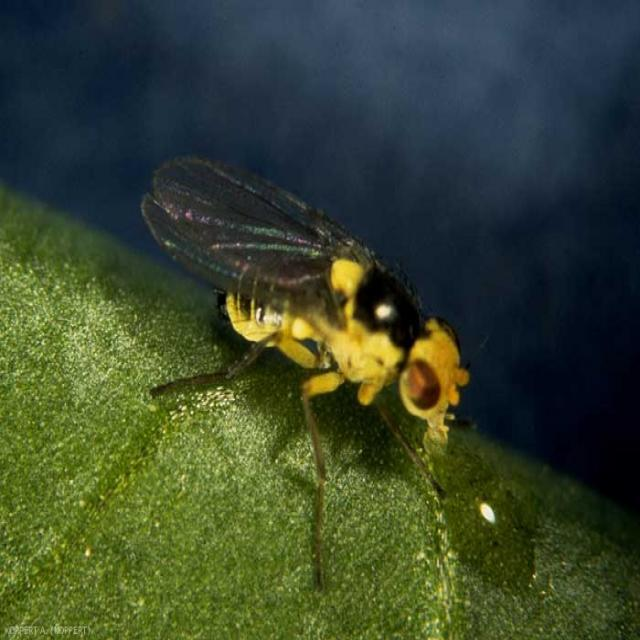Serpentine leafminer: (138, 142, 478, 608)
